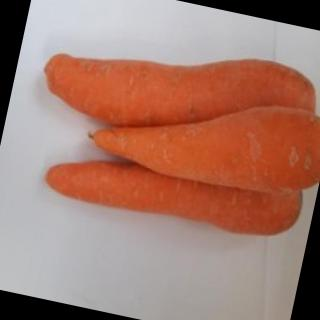Wortel: (34, 12, 320, 170), (83, 64, 320, 205), (42, 132, 310, 250)
